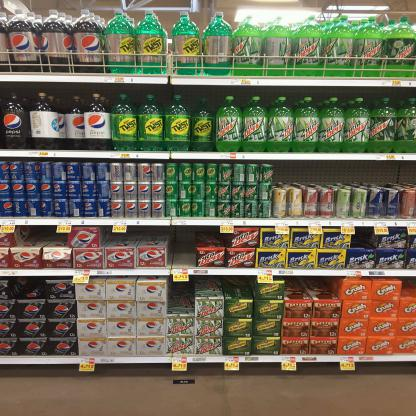Void: (279, 160, 405, 182), (22, 224, 61, 244), (291, 279, 333, 296), (174, 228, 192, 265), (172, 282, 191, 310), (14, 277, 43, 291), (354, 226, 369, 245)
